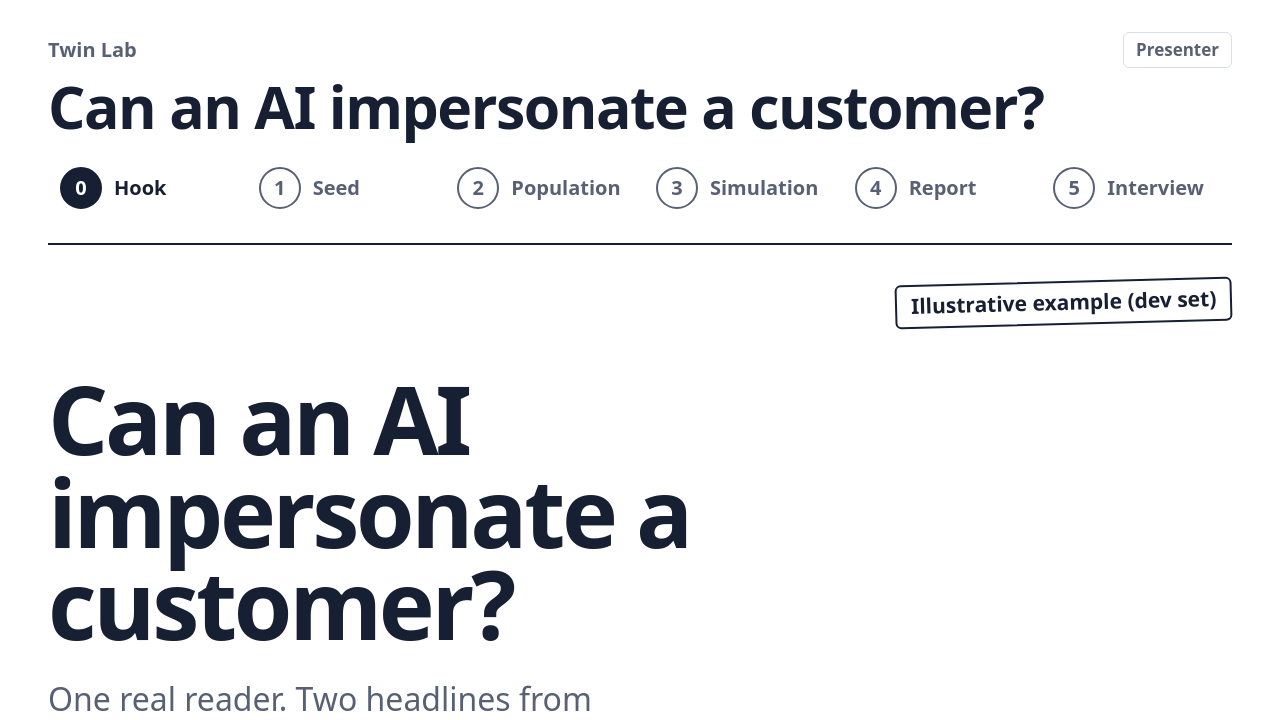
Test case: Run picker › says when there are no saved runs
Click the button "2 Population": {"x": 541, "y": 188} [445, 157, 636, 219]
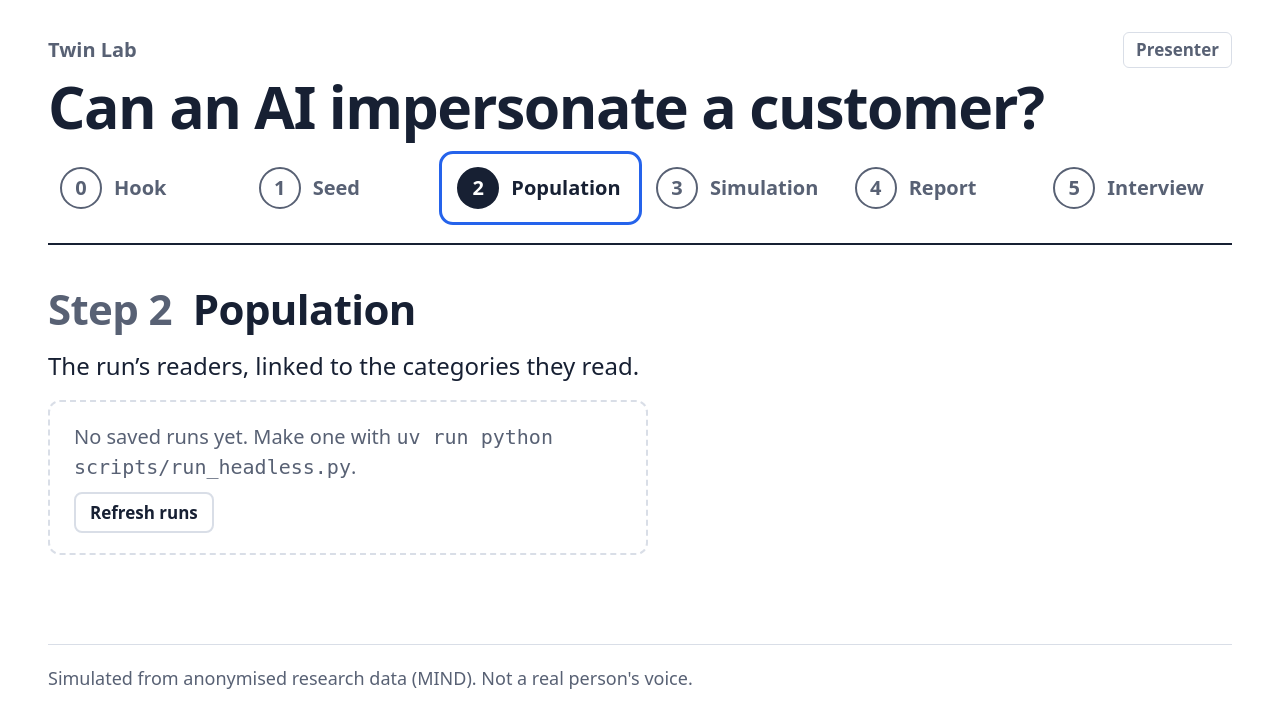
Result: the text "No saved runs yet" is shown at [74, 423, 396, 450]
